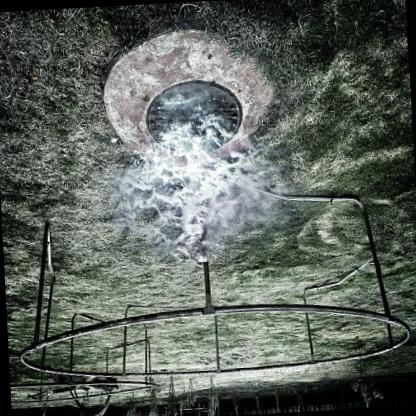manholes: (139, 68, 246, 165)
